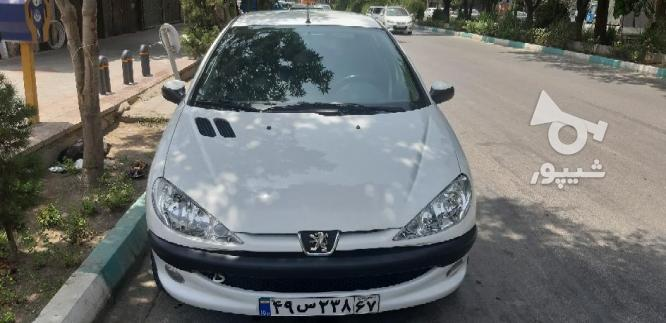car: (258, 295, 382, 314)
